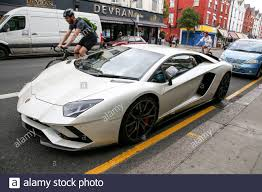Lamborghini: (93, 46, 187, 148)
